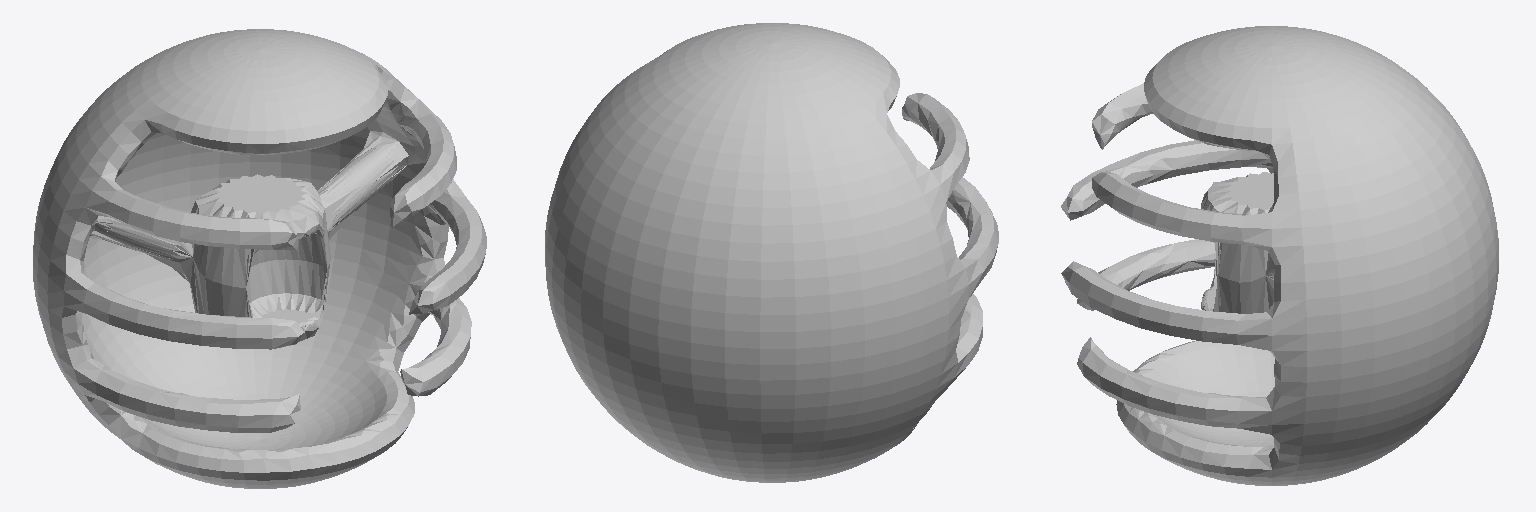
Rendered from EnemyRunsawayLookdir.obj.
The picture shows the model from 3 angles: view 1: azimuth 30°, elevation 25°; view 2: azimuth 150°, elevation 25°; view 3: azimuth 270°, elevation 25°; orthographic projection.
Visible parts, largest first — view 1: pCylinder6; view 2: pCylinder6; view 3: pCylinder6.
Boxes of the visible parts, <box> form: pCylinder6: <box>33,29,486,488</box>; pCylinder6: <box>545,23,998,482</box>; pCylinder6: <box>1061,26,1498,485</box>.
Size of the model in its own units: 0.7853 by 0.7992 by 0.7585.